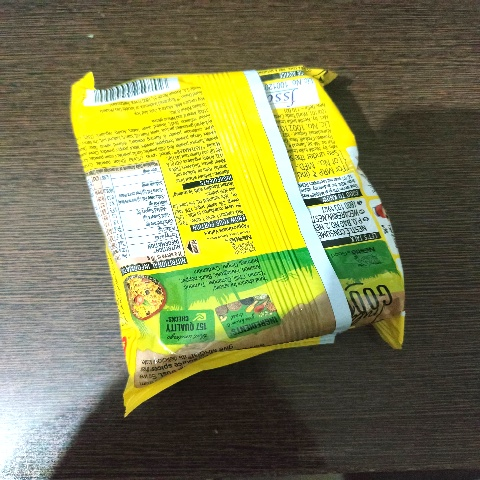maggi: (52, 49, 414, 397)
